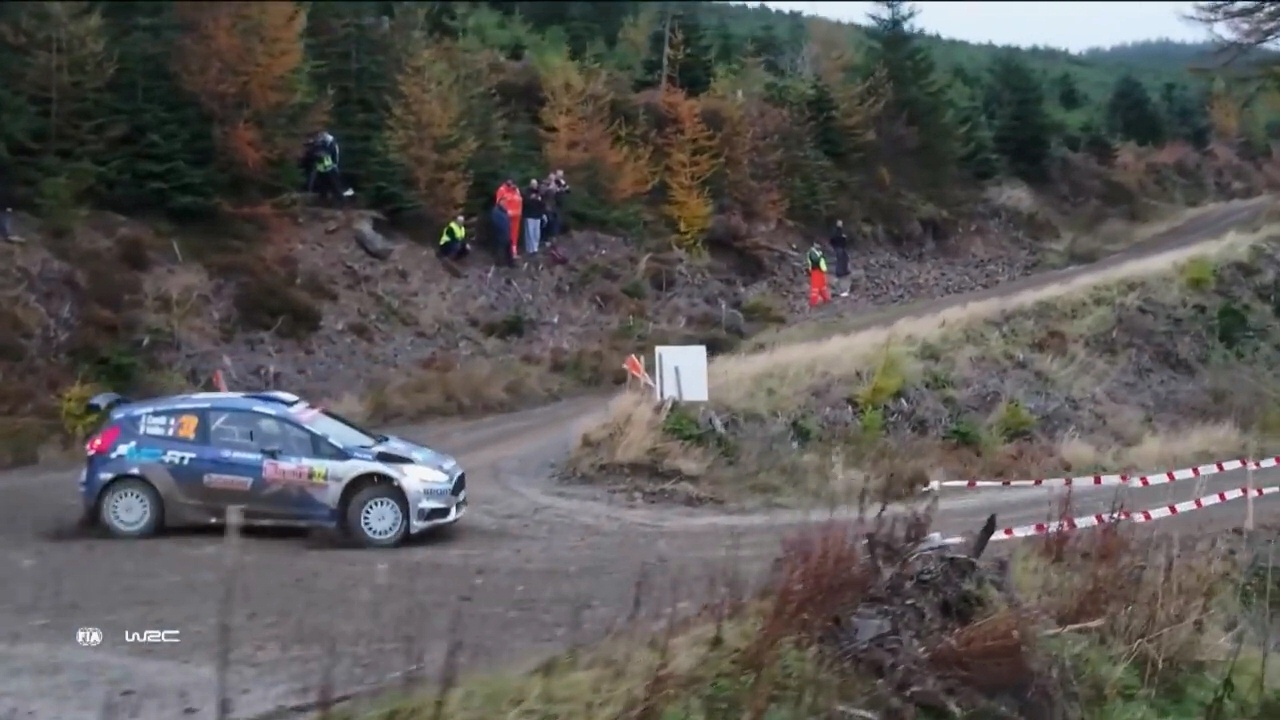araba: (79, 387, 469, 539)
insan: (518, 176, 551, 253), (487, 197, 516, 270), (803, 234, 830, 310), (824, 216, 854, 284), (436, 208, 473, 260)
